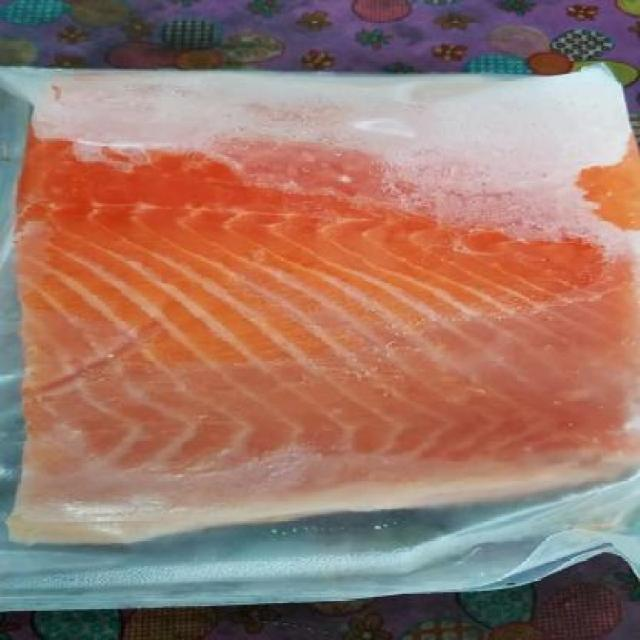salmon: (18, 49, 640, 550)
